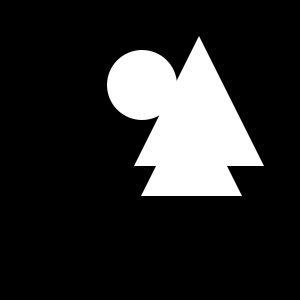circle: (156, 124, 222, 190)
rectangle: (107, 50, 177, 120)
triangle: (134, 36, 264, 166), (141, 95, 242, 196)
